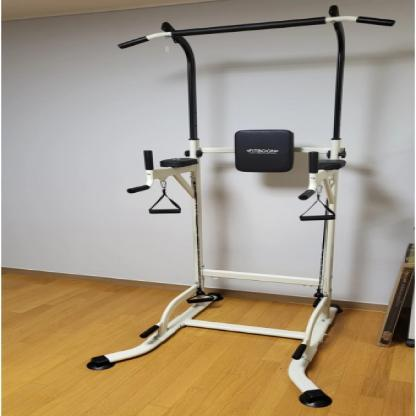chinning dipping: (87, 5, 397, 408)
